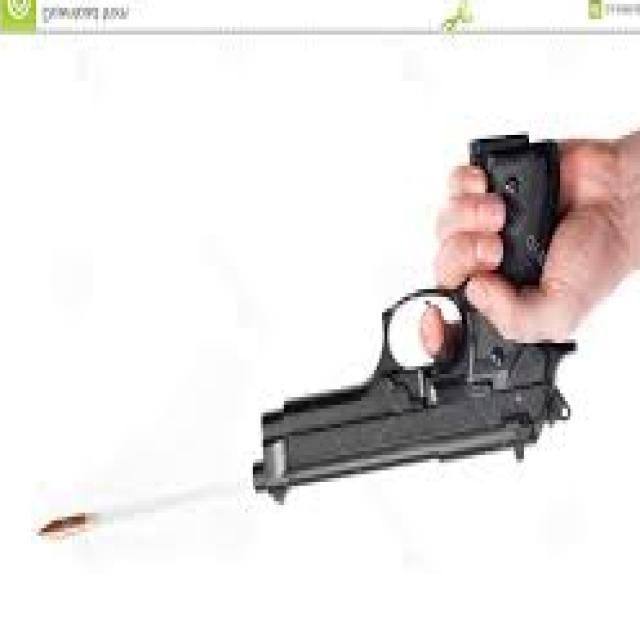gun: (232, 122, 585, 543)
